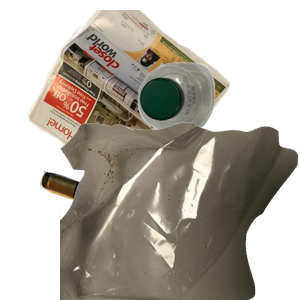glass: (37, 168, 242, 300)
paper: (23, 10, 245, 190)
plastic: (135, 60, 300, 184)
trash: (60, 120, 300, 300)
